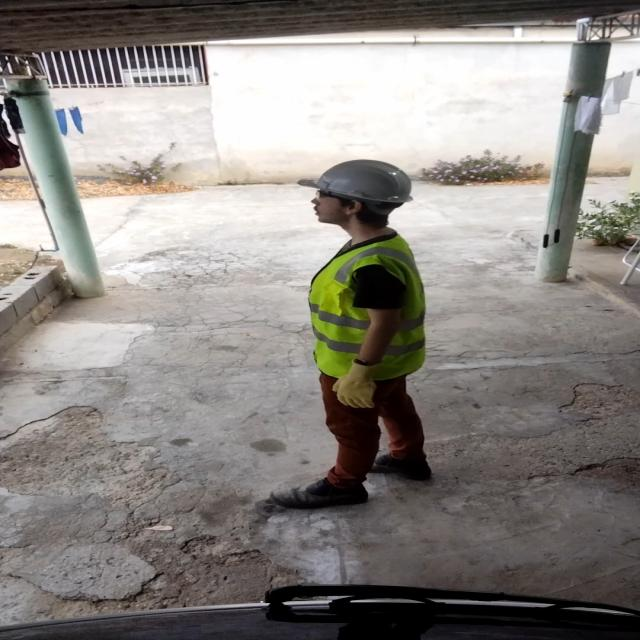glove: (328, 359, 388, 411)
helmet: (292, 154, 424, 212)
pants: (308, 361, 434, 470)
vest: (309, 232, 426, 372)
